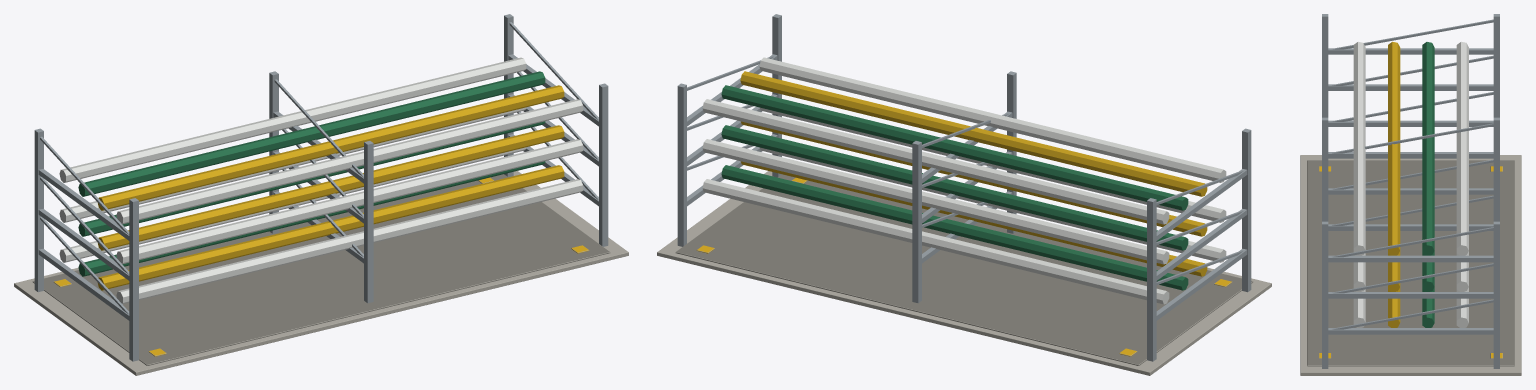
The model's file is ref_pipe_rack.glb.
3 renders of one model, left to right at view 1: azimuth 30°, elevation 25°; view 2: azimuth 150°, elevation 25°; view 3: azimuth 270°, elevation 25°, orthographic. The views are drawn at different scales.
Visible parts, largest first — view 1: ref_pipe_rack; view 2: ref_pipe_rack; view 3: ref_pipe_rack.
Part boxes in pixels (x1,y1,x2,y2): ref_pipe_rack: (14, 14, 628, 375); ref_pipe_rack: (657, 14, 1271, 375); ref_pipe_rack: (1300, 14, 1521, 375).
Bounding box in the file's own units: 21 × 6.65 × 9.
